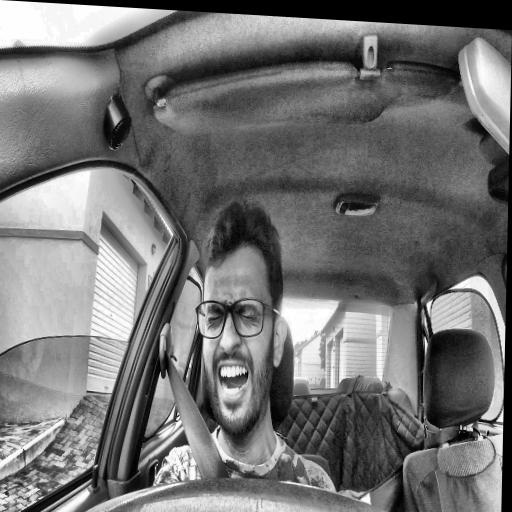drowsy: (193, 196, 291, 440)
